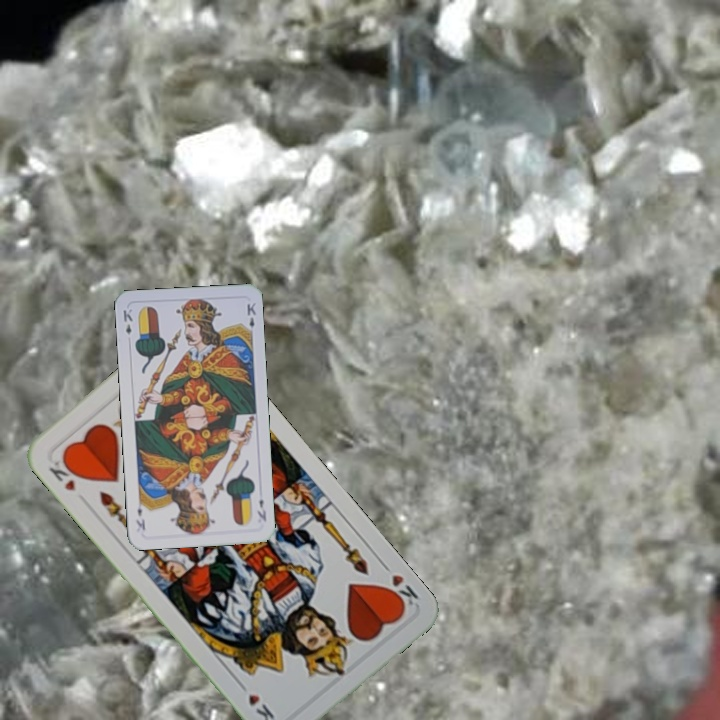EK: (119, 305, 135, 337), (253, 495, 269, 524)
HK: (377, 557, 422, 612), (44, 450, 82, 494)
